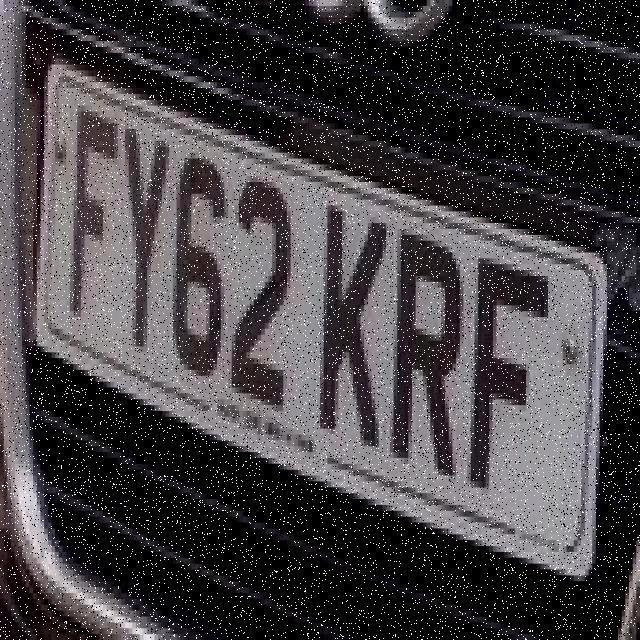LicensePlate: (33, 43, 601, 575)
